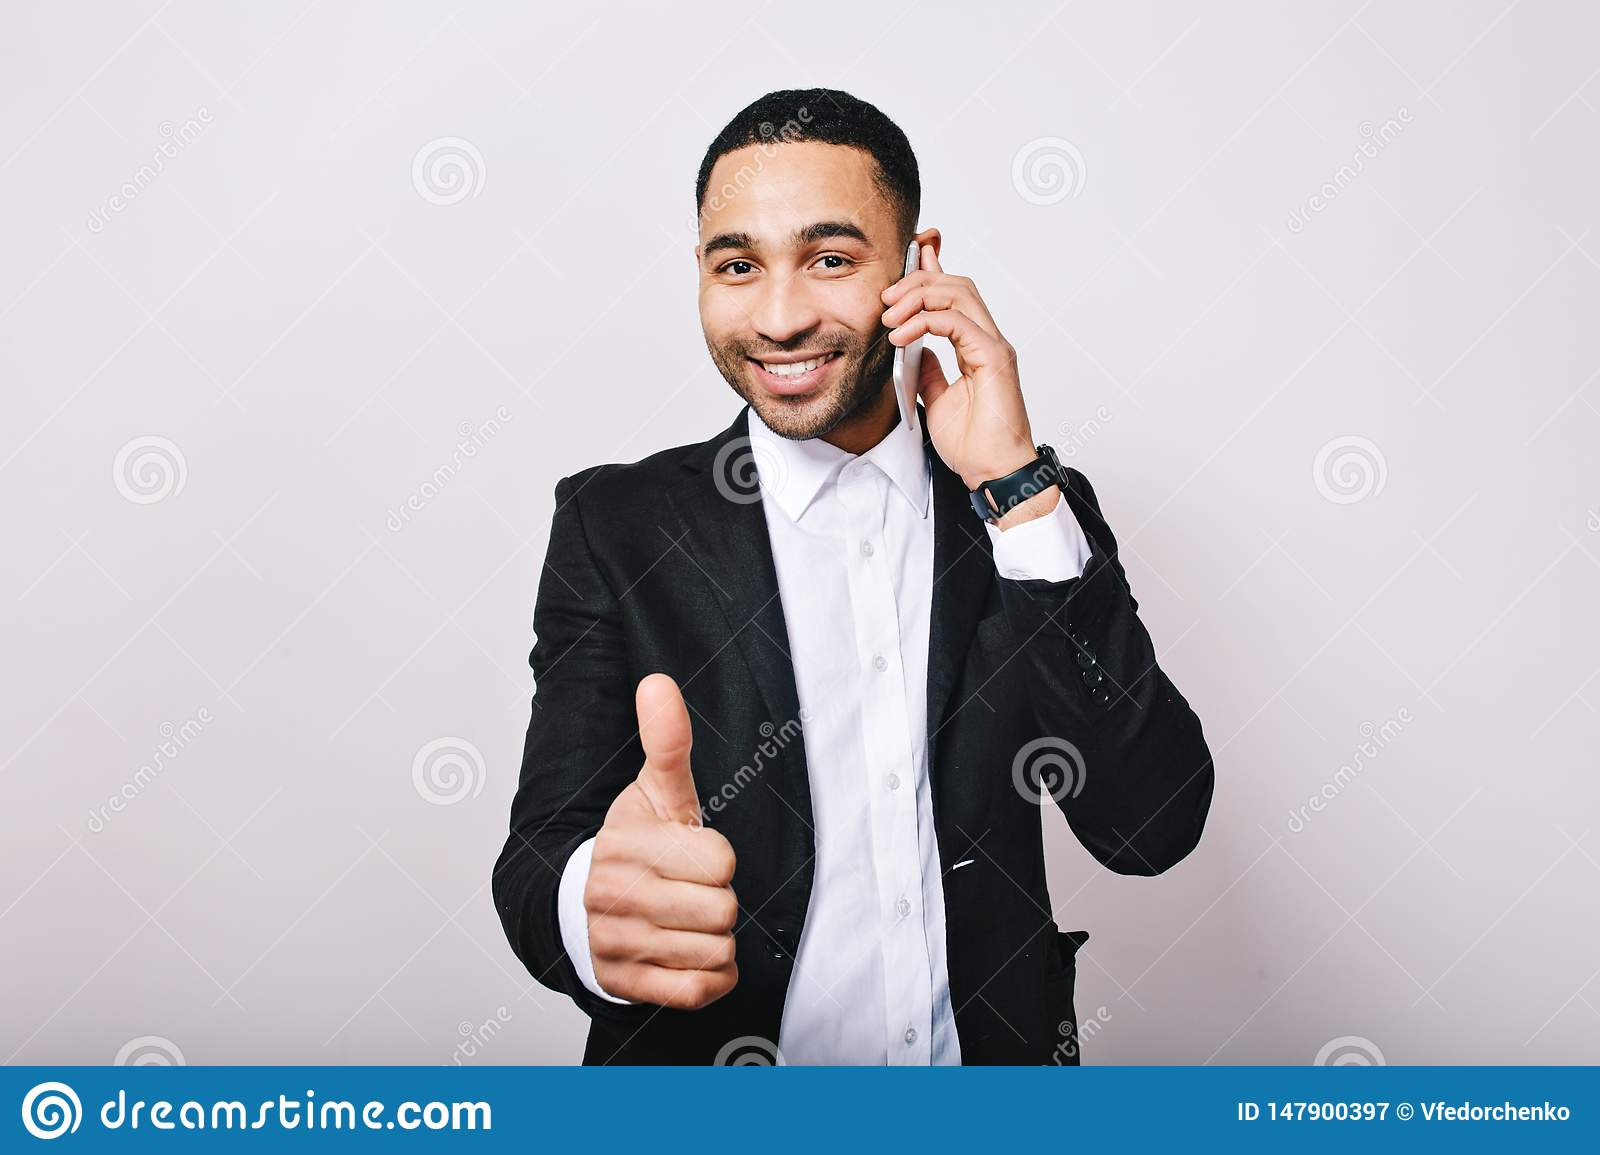phone: (887, 241, 934, 433)
talk: (701, 207, 1021, 476)
